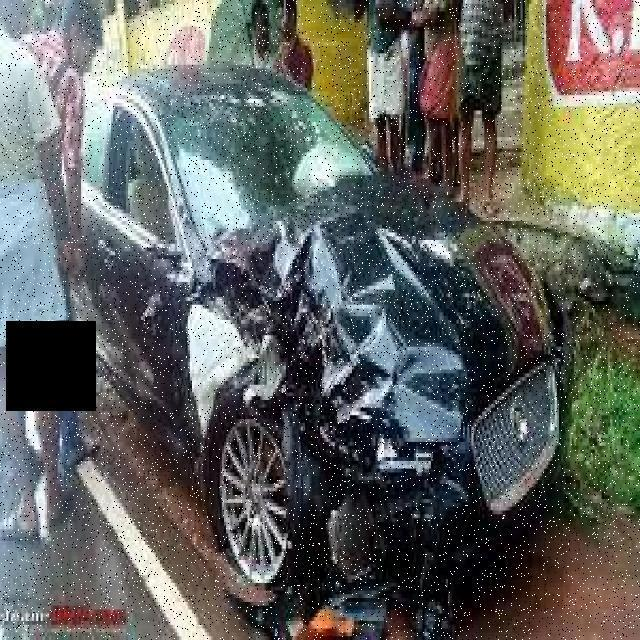single accident: (0, 12, 573, 637)
